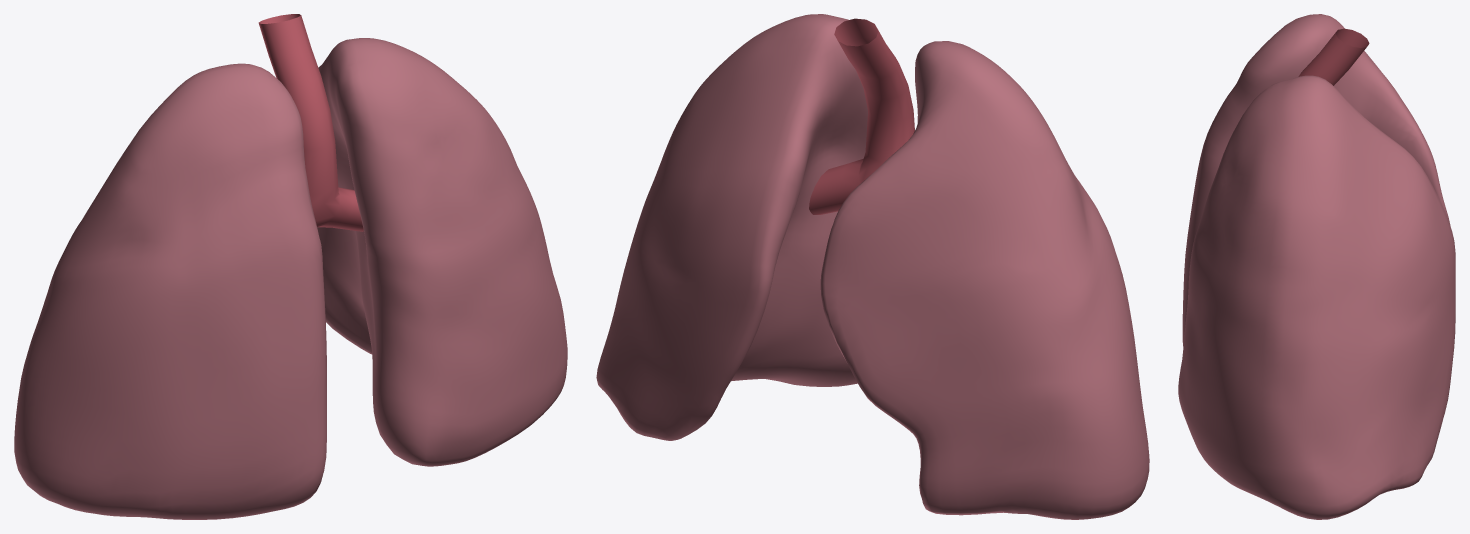
File: lungs_low_res.fbx
The picture shows the model from 3 angles, left to right: view 1: azimuth 30°, elevation 25°; view 2: azimuth 150°, elevation 25°; view 3: azimuth 270°, elevation 25°; orthographic projection. The views are drawn at different scales.
Parts seen in each view (by area): view 1: Lungs_low, Lungs_Throat; view 2: Lungs_low, Lungs_Throat; view 3: Lungs_low, Lungs_Throat.
Part boxes in pixels (<box>): Lungs_low: <box>14,38,567,519</box>; Lungs_Throat: <box>258,14,363,231</box>; Lungs_low: <box>596,14,1149,519</box>; Lungs_Throat: <box>809,18,914,214</box>; Lungs_low: <box>1178,14,1455,519</box>; Lungs_Throat: <box>1298,28,1369,85</box>.
Bounding box in the file's own units: 408 × 319 × 208.
